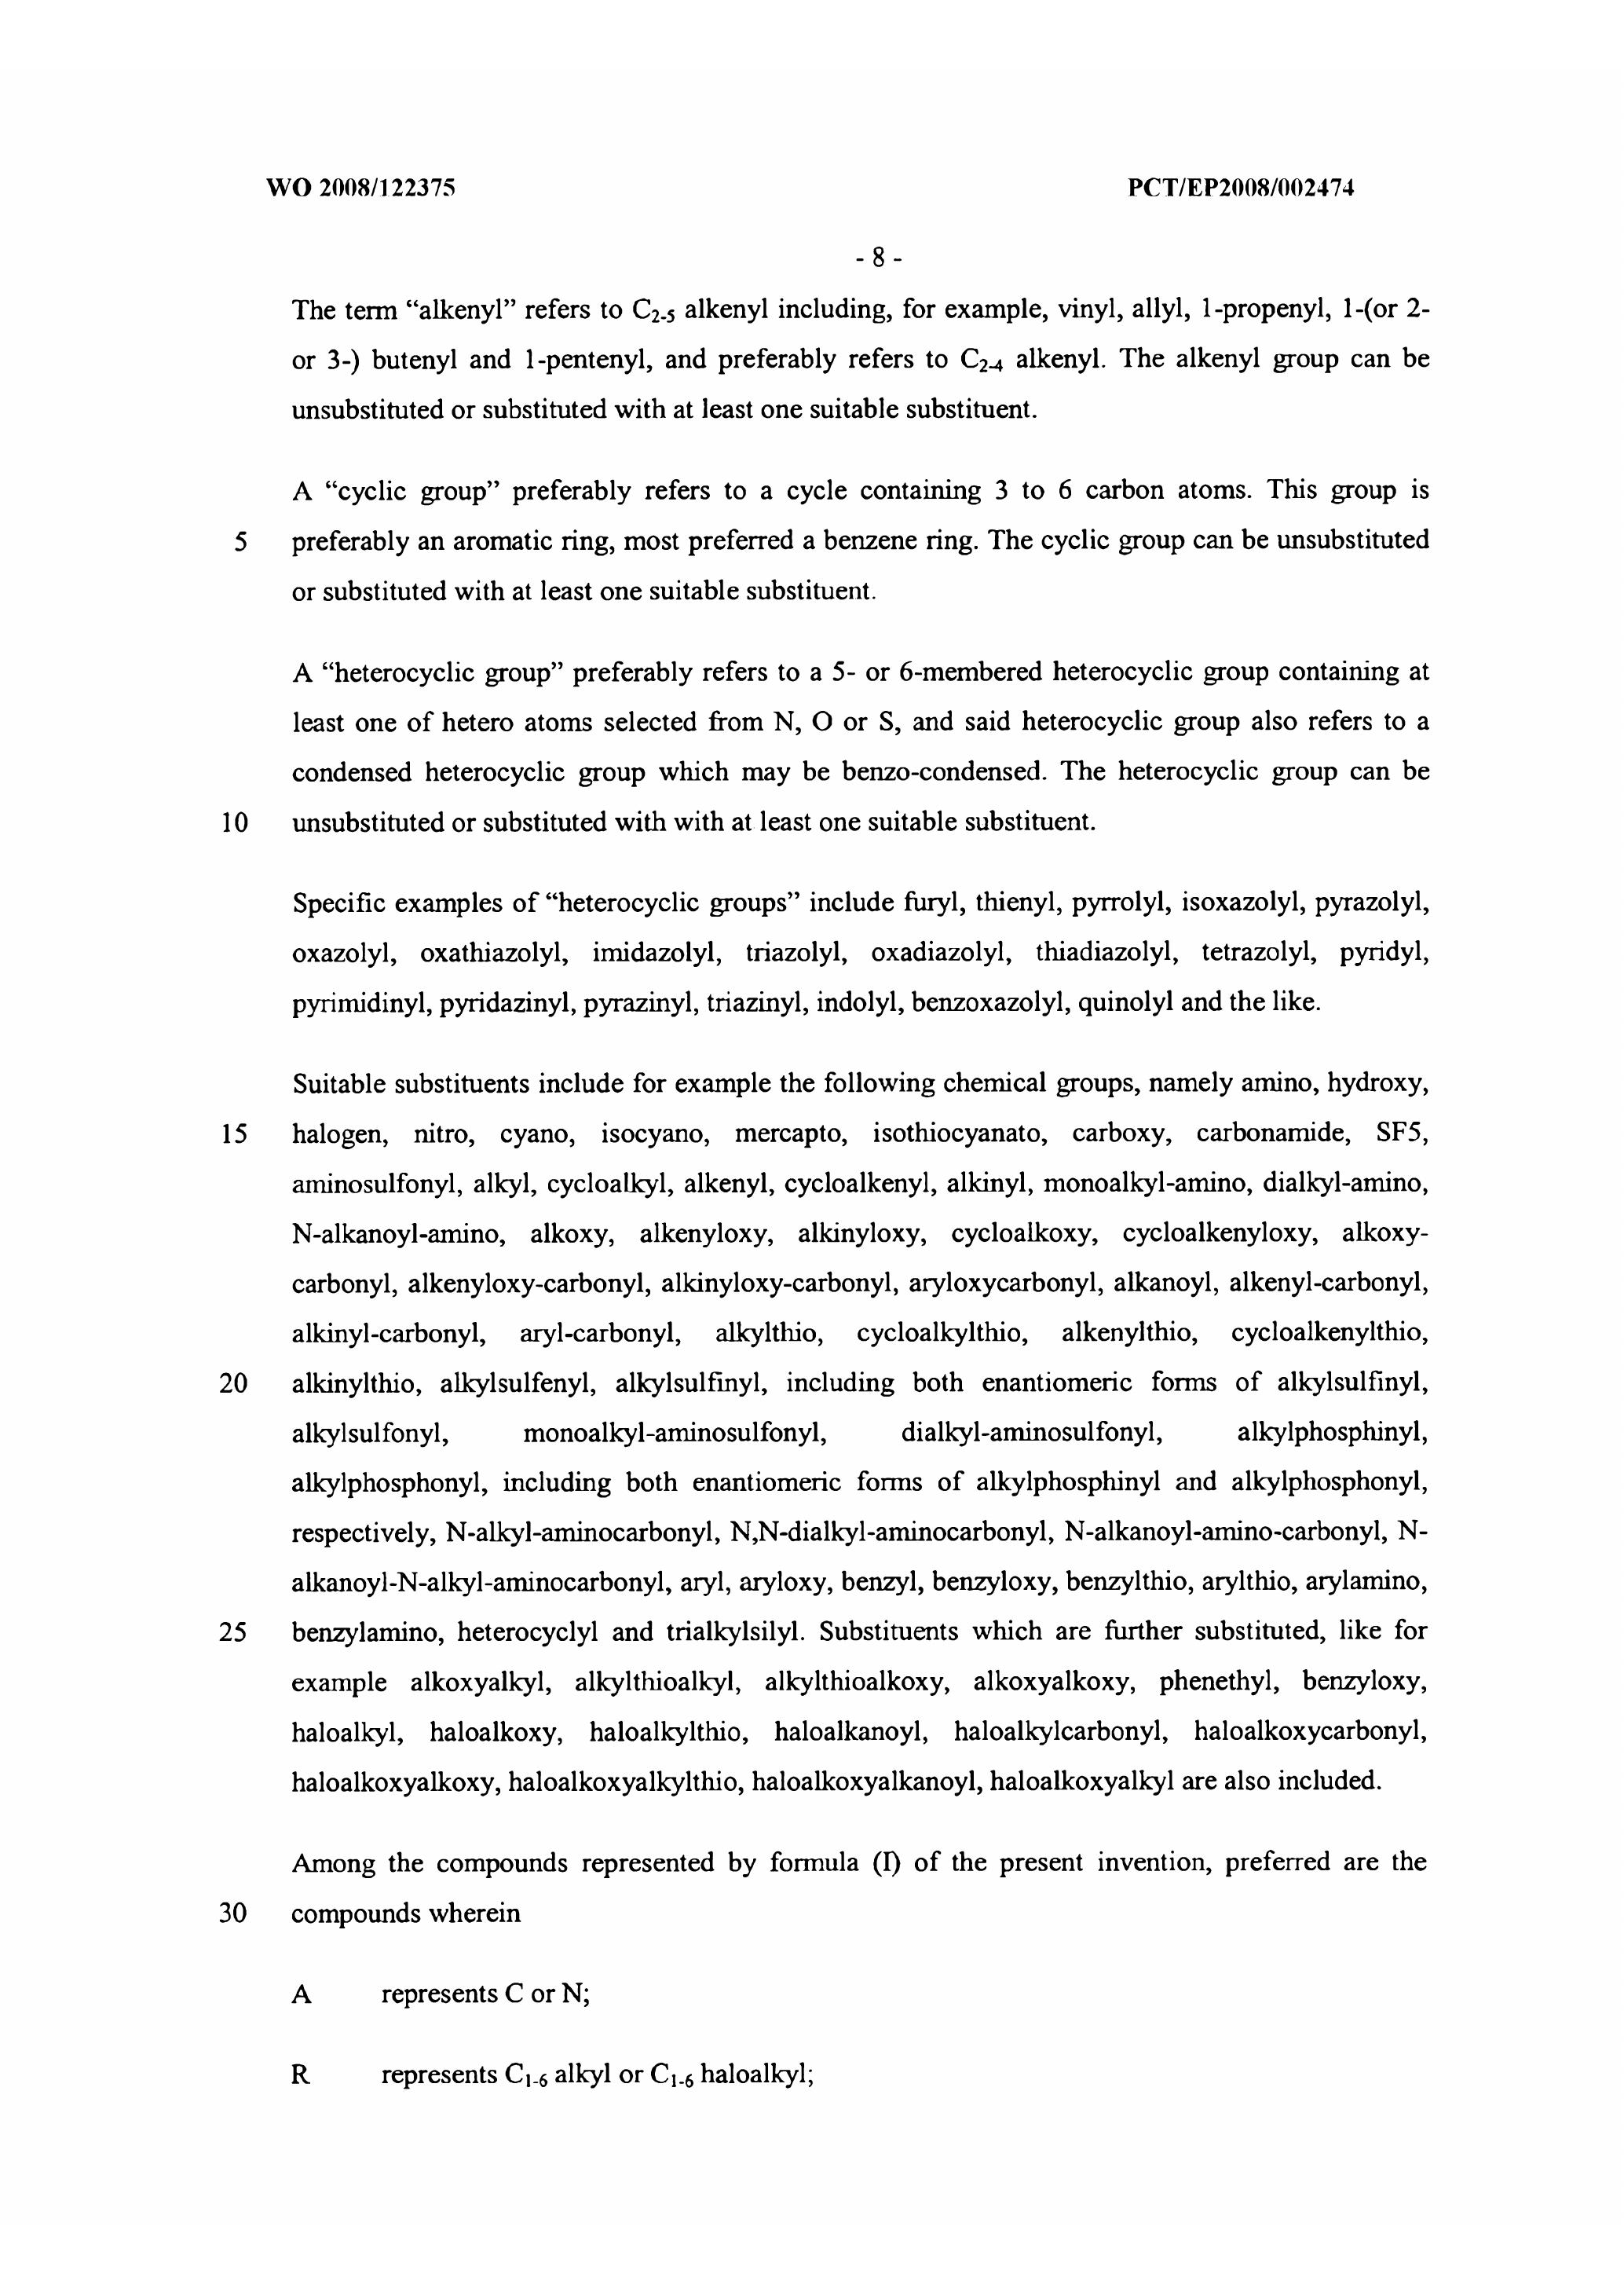substitutes: (264, 452, 1480, 1044)
